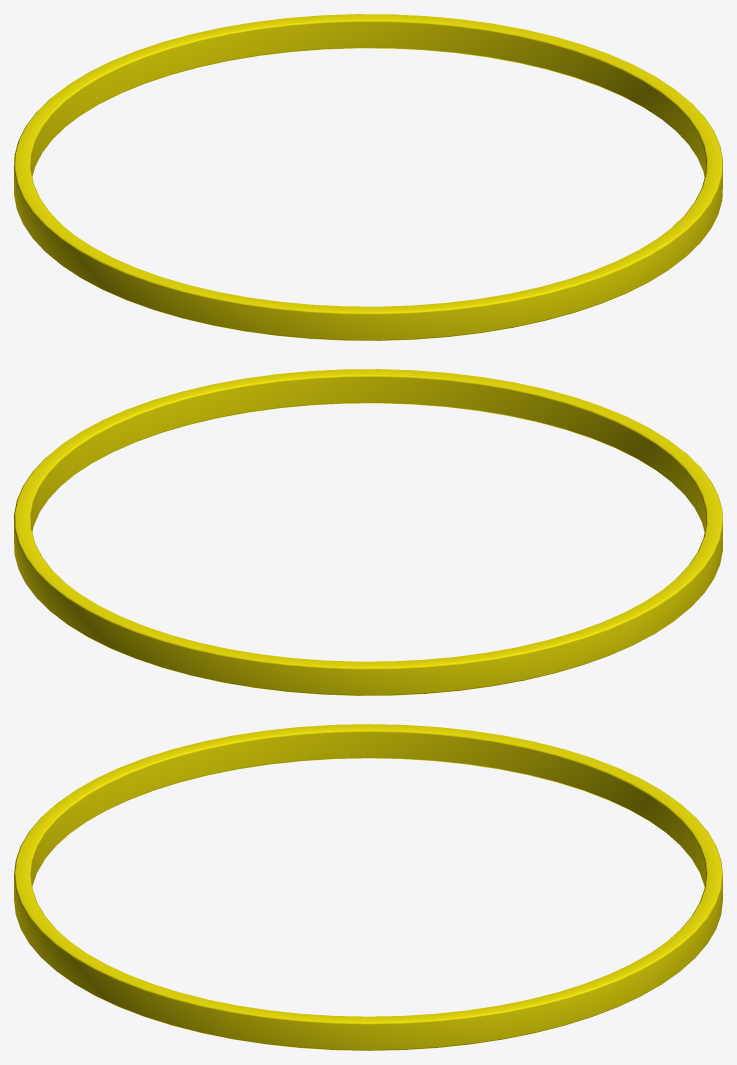
3 renders of one model, top to bottom at view 1: azimuth 30°, elevation 25°; view 2: azimuth 150°, elevation 25°; view 3: azimuth 270°, elevation 25°, orthographic.
Parts seen in each view (by area): view 1: seal_body; view 2: seal_body; view 3: seal_body.
Part boxes in pixels (<box>): seal_body: <box>14,14,722,340</box>; seal_body: <box>14,369,722,695</box>; seal_body: <box>14,724,722,1050</box>.
Bounding box in the file's own units: 0.168 × 0.0075 × 0.168.
